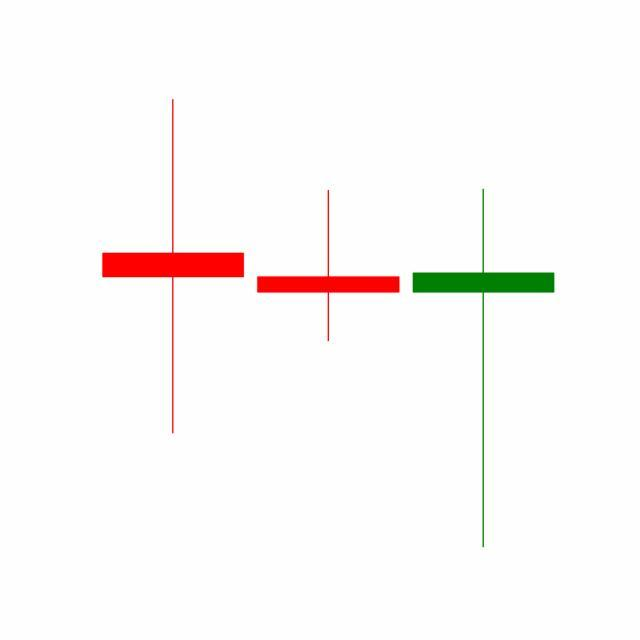Spinning Top: (250, 189, 407, 345)
